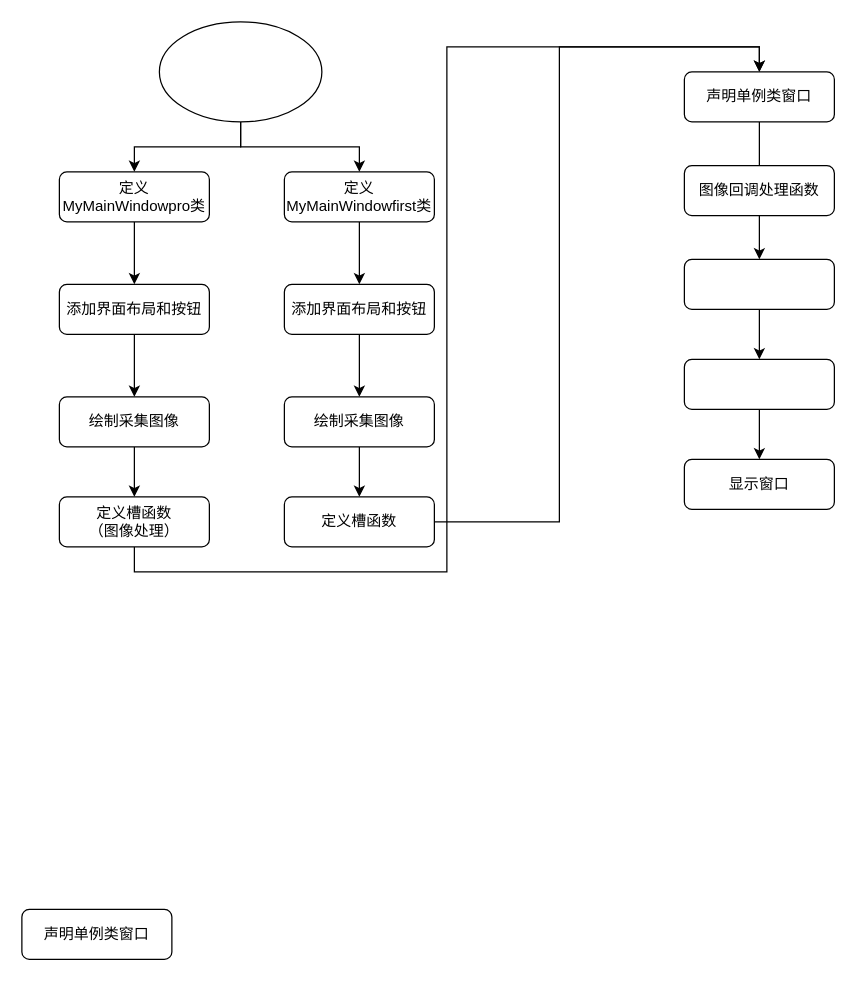
Image size: 856x981. Some labels were removed from this diagram. Here are the shapes that lost their labels. From the top down, the centre of each, then its label:
(240,71): #includet添加头文件 添加设备句柄
(758,283): 相机运行函数
(758,383): 白平衡与曝光相关参数
